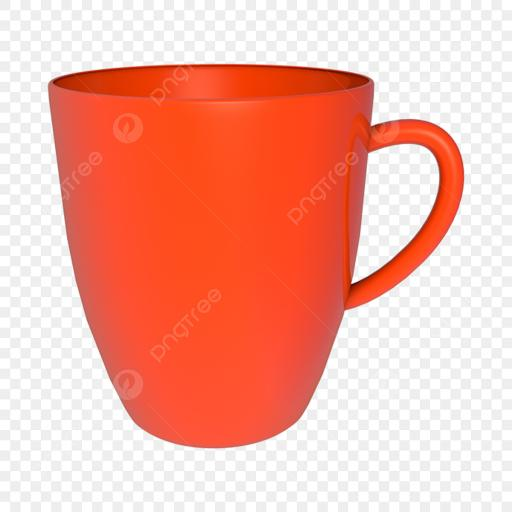cup: (49, 64, 463, 446)
